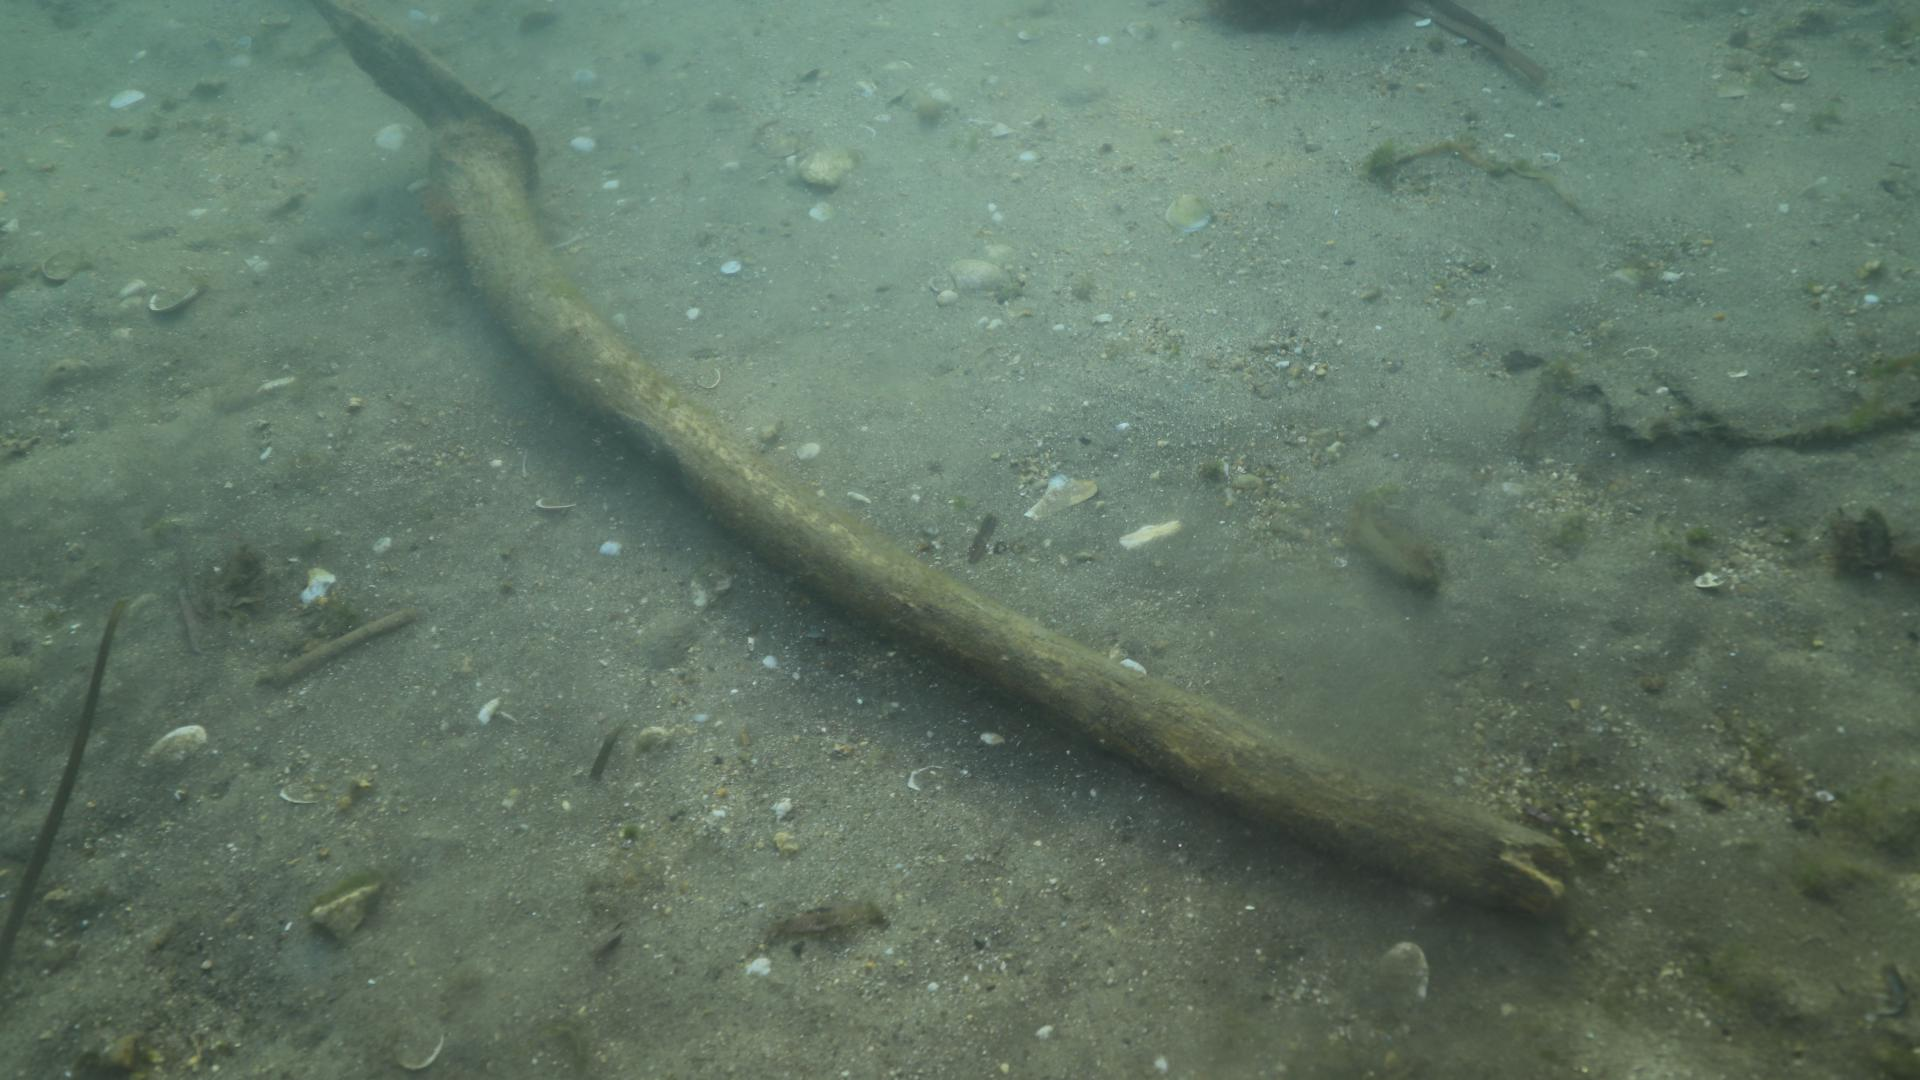wood: (298, 0, 1575, 926)
